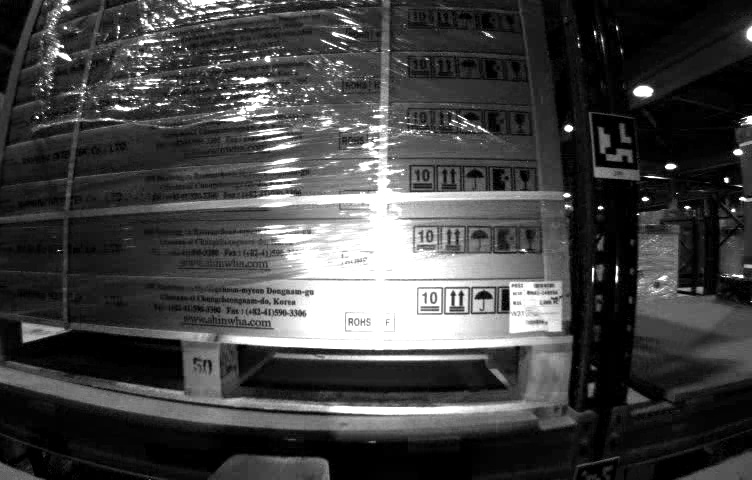True Barcode: (508, 278, 564, 335)
